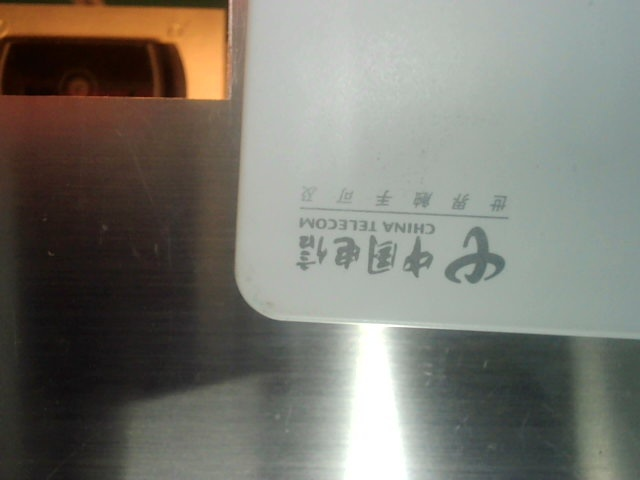AB_ChinaTelecom: (295, 182, 525, 283)
